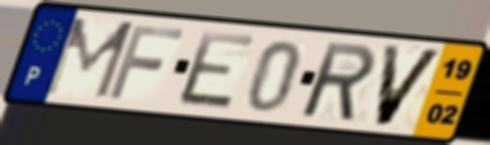0: (244, 37, 307, 114)
E: (175, 28, 260, 113)
F: (105, 23, 188, 102)
M: (40, 15, 139, 102)
R: (300, 40, 379, 125)
V: (372, 42, 448, 129)
